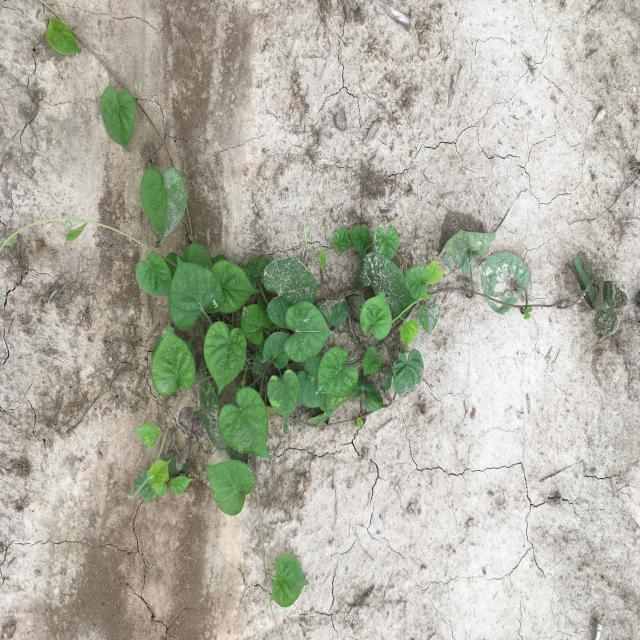MorningGlory: (1, 15, 628, 608)
